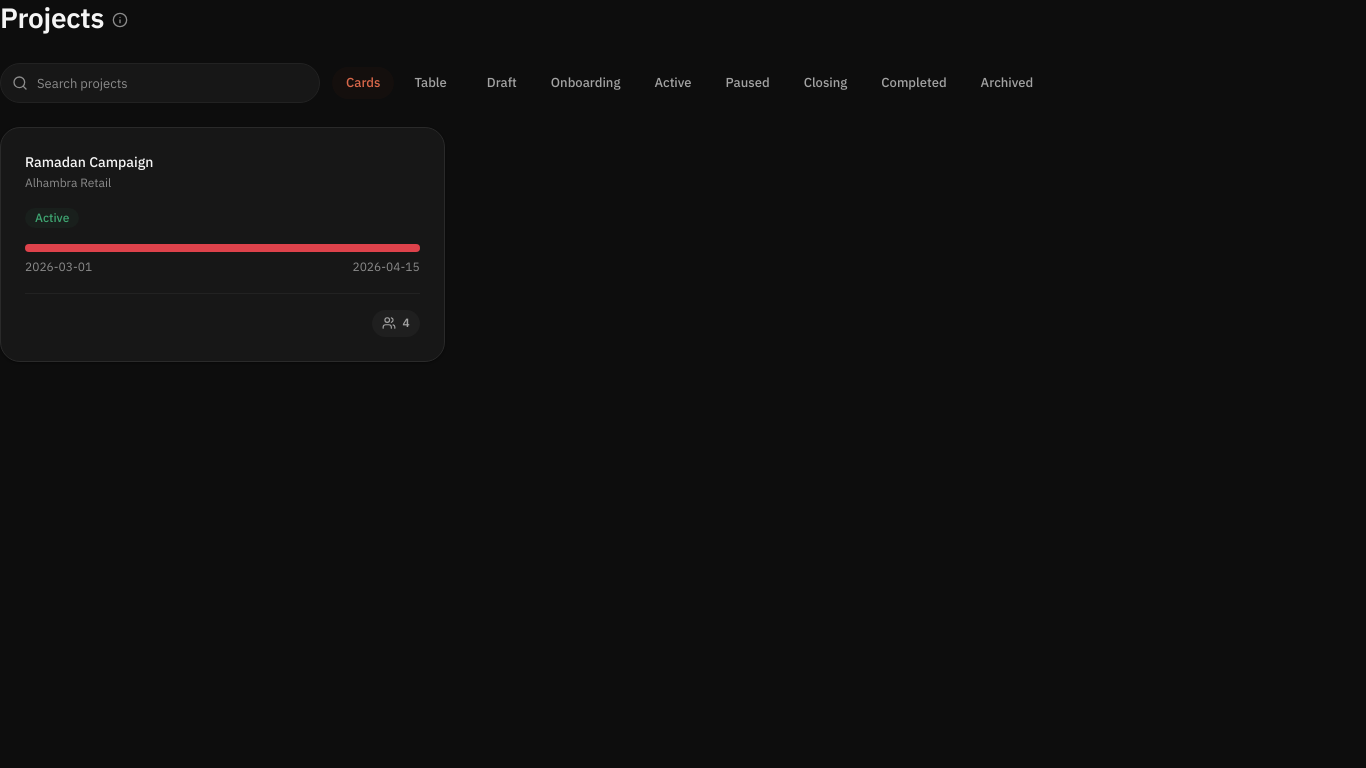
Scenario: who can see a project › opens the access list from the member count
What coordinates should you click on to do the following:
click the button named "Manage access"
I would click on:
 (396, 323)
Its box is [372,310,420,337].
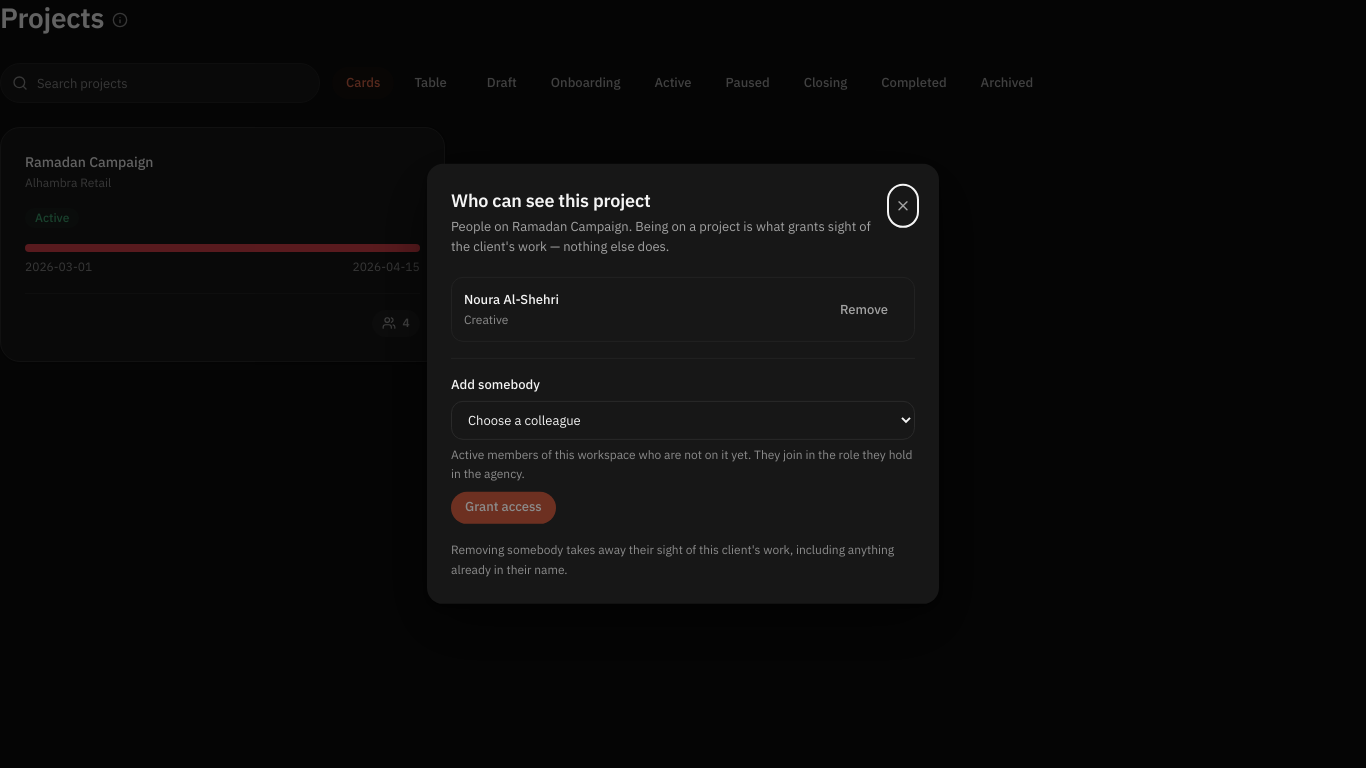
expect the text "Noura Al-Shehri" is shown: met, box [464,290,559,310]
expect the text "grants sight of the client" is shown: met, box [451,217,871,256]
